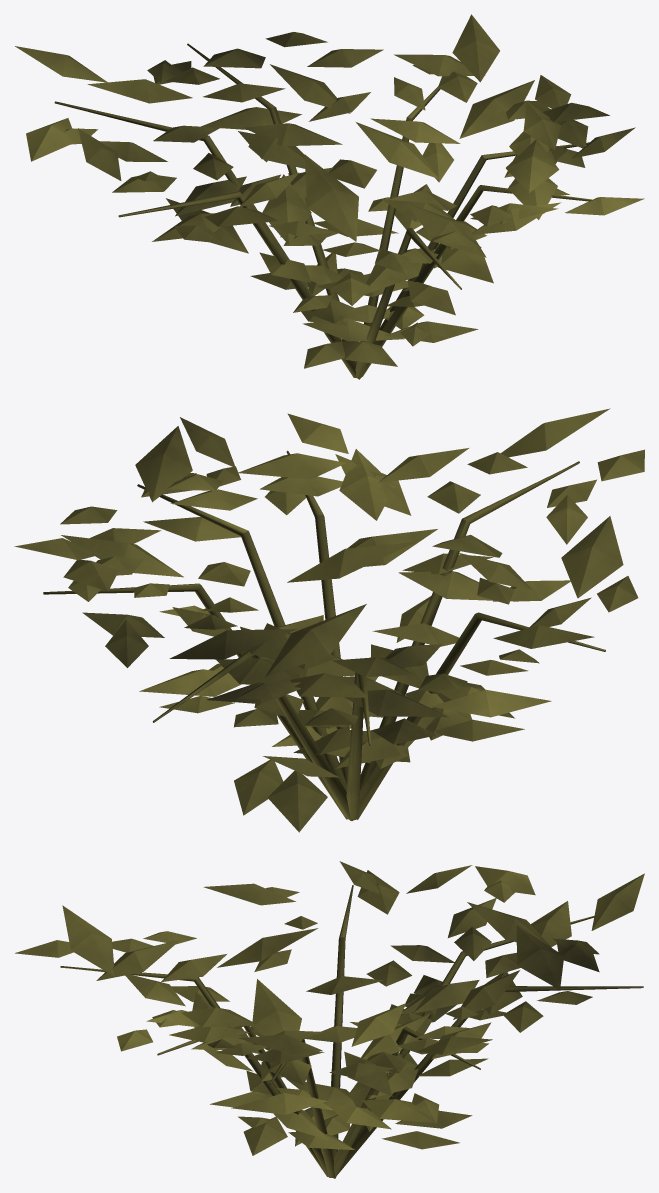
The model's file is fern.glb.
3 views of the same model, one above another, from view 1: azimuth 30°, elevation 25°; view 2: azimuth 150°, elevation 25°; view 3: azimuth 270°, elevation 25° (orthographic). The views are drawn at different scales.
Visible parts, largest first — view 1: fern; view 2: fern; view 3: fern.
Part boxes in pixels (x1=…): fern: x1=15, y1=14, x2=644, y2=379; fern: x1=14, y1=408, x2=644, y2=832; fern: x1=15, y1=861, x2=644, y2=1178.
Size of the model in its own units: 1.09 by 0.5754 by 1.37.
1 material, 1 textured.
